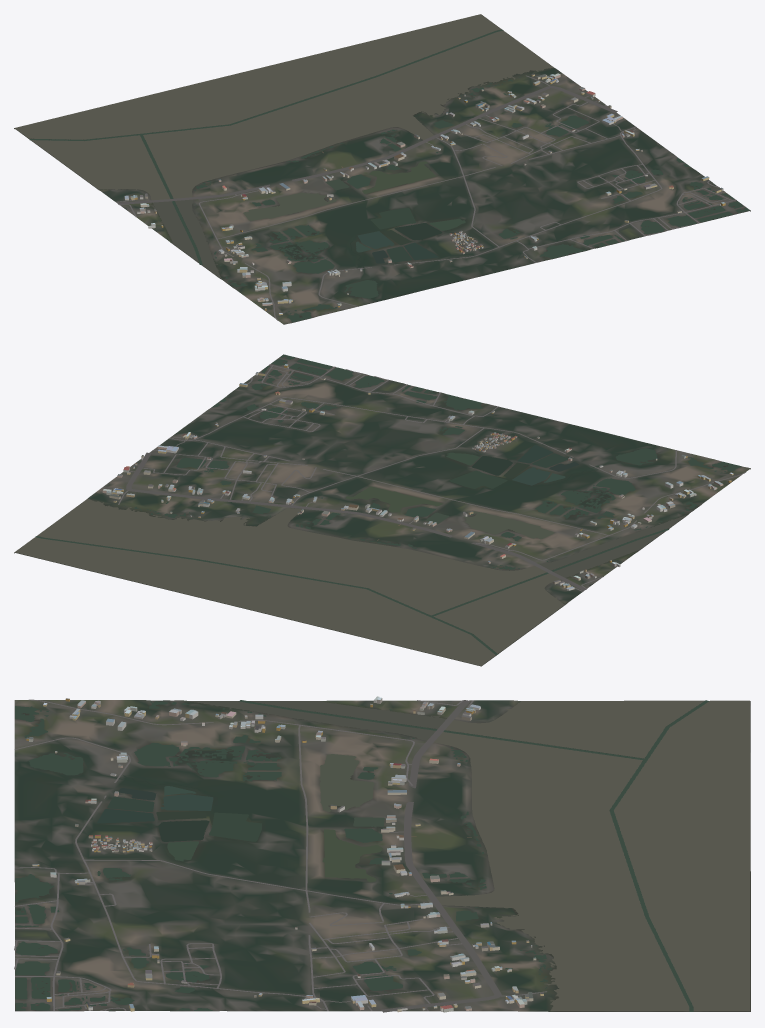
3 views of the same model, one above another, from view 1: azimuth 30°, elevation 25°; view 2: azimuth 150°, elevation 25°; view 3: azimuth 270°, elevation 25° (orthographic). The views are drawn at different scales.
Parts seen in each view (by area): view 1: ground, water, roads, buildings; view 2: ground, water, roads, buildings; view 3: ground, water, roads, buildings.
Part boxes in pixels (bbox=[...]): ground: bbox=[14, 15, 750, 324]; water: bbox=[15, 14, 749, 322]; roads: bbox=[116, 75, 736, 320]; buildings: bbox=[124, 73, 725, 315]; ground: bbox=[14, 355, 750, 666]; water: bbox=[15, 354, 741, 665]; roads: bbox=[118, 364, 745, 591]; buildings: bbox=[102, 364, 733, 590]; ground: bbox=[14, 700, 750, 1011]; water: bbox=[15, 700, 750, 1011]; roads: bbox=[14, 699, 546, 1012]; buildings: bbox=[26, 696, 543, 1012].
Bounding box in the file's own units: 1414 × 14.1 × 1402.
